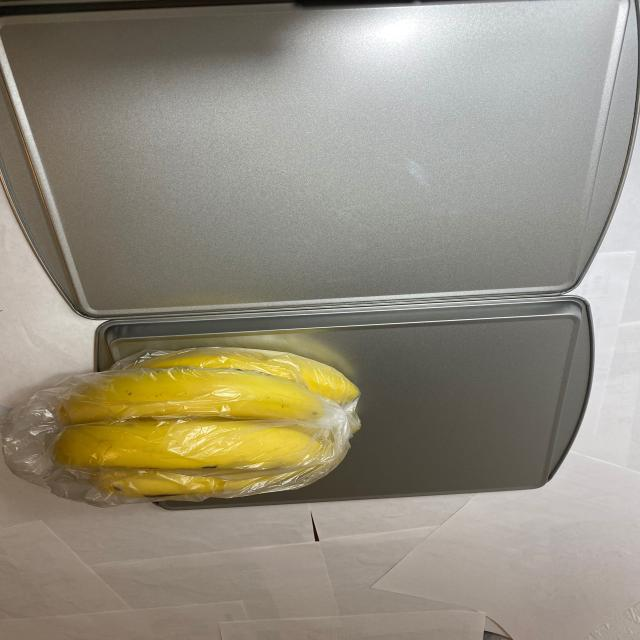banana: (44, 338, 368, 496)
